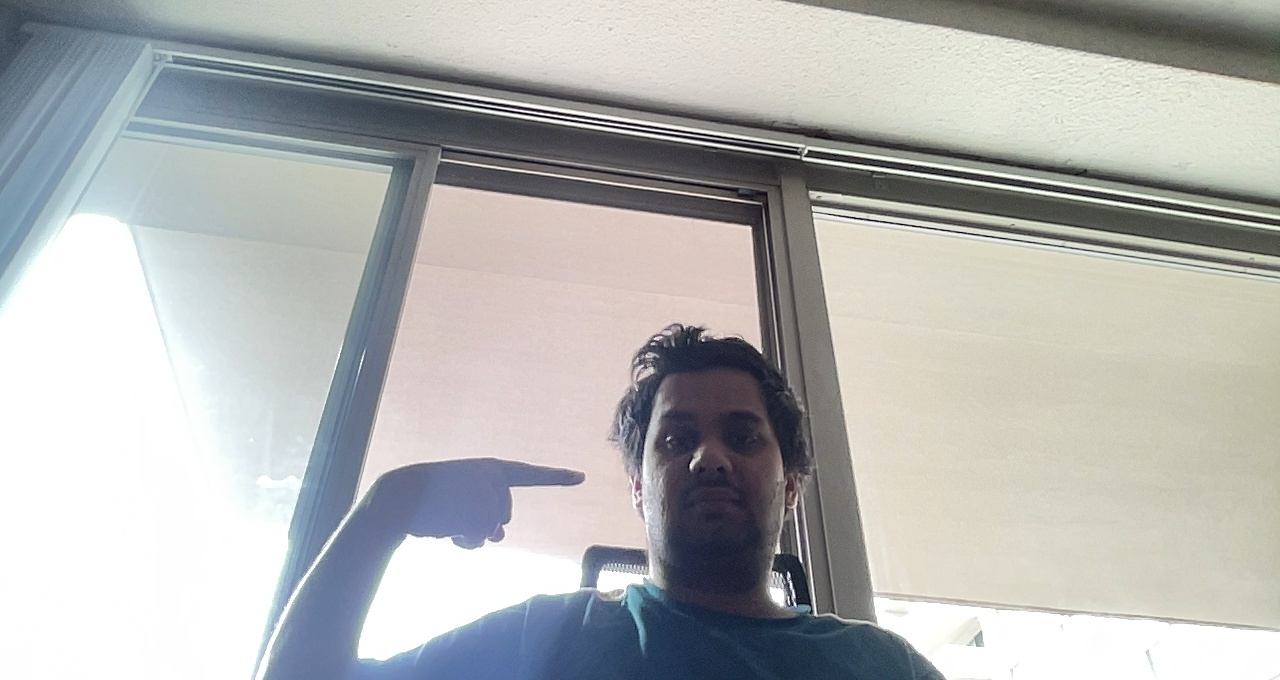fingerleft: (363, 456, 587, 550)
